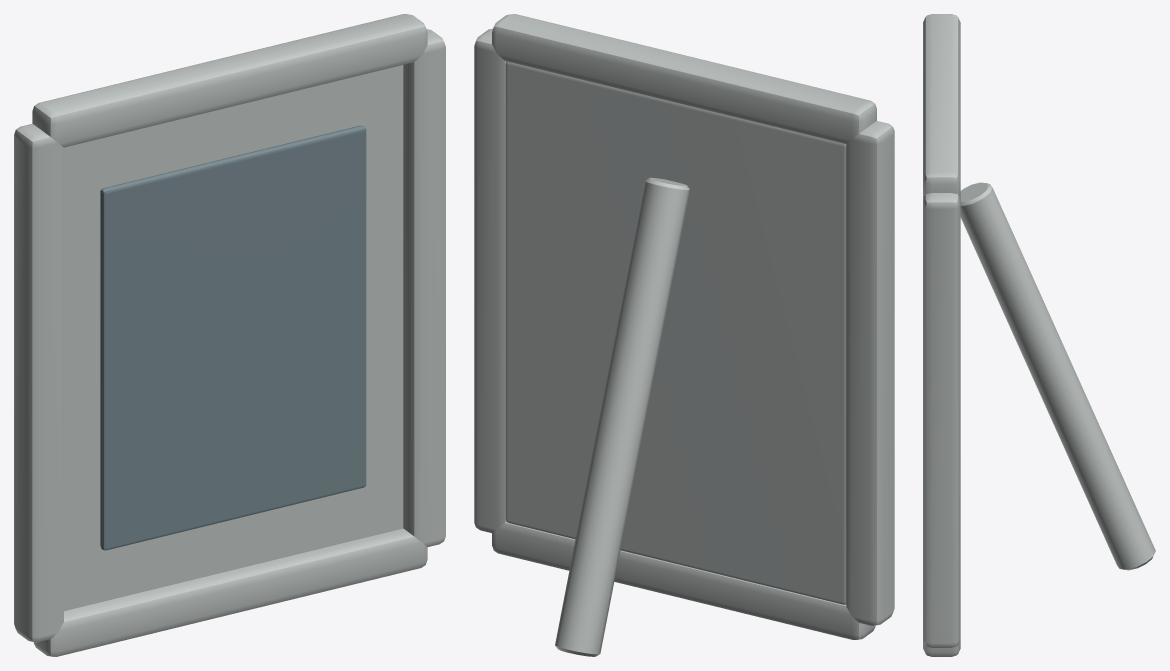
File: picture-frame.glb
3 renders of one model, left to right at view 1: azimuth 30°, elevation 25°; view 2: azimuth 150°, elevation 25°; view 3: azimuth 270°, elevation 25°, orthographic. The views are drawn at different scales.
Visible parts, largest first — view 1: picture_inset, mat_board, picture_frame_side, picture_frame_side.001, picture_frame_rail.001, picture_frame_rail; view 2: mat_board, picture_frame_side, easel_back, picture_frame_rail.001, picture_frame_side.001, picture_frame_rail; view 3: easel_back, picture_frame_side.001, picture_frame_rail.001, picture_frame_rail.
Boxes of the visible parts, x1,y1,x2,y2 form: picture_inset: (100, 125, 366, 550); mat_board: (64, 65, 403, 610); picture_frame_side: (14, 123, 63, 642); picture_frame_side.001: (403, 29, 445, 547); picture_frame_rail.001: (32, 14, 427, 147); picture_frame_rail: (33, 528, 427, 656); mat_board: (505, 61, 846, 604); picture_frame_side: (846, 121, 894, 625); easel_back: (555, 177, 689, 656); picture_frame_rail.001: (492, 14, 876, 143); picture_frame_side.001: (474, 28, 506, 532); picture_frame_rail: (492, 522, 875, 639); easel_back: (960, 182, 1155, 570); picture_frame_side.001: (923, 193, 960, 647); picture_frame_rail.001: (923, 14, 960, 196); picture_frame_rail: (923, 640, 960, 656).
Size of the model in its own units: 0.285 by 0.355 by 0.1547.
